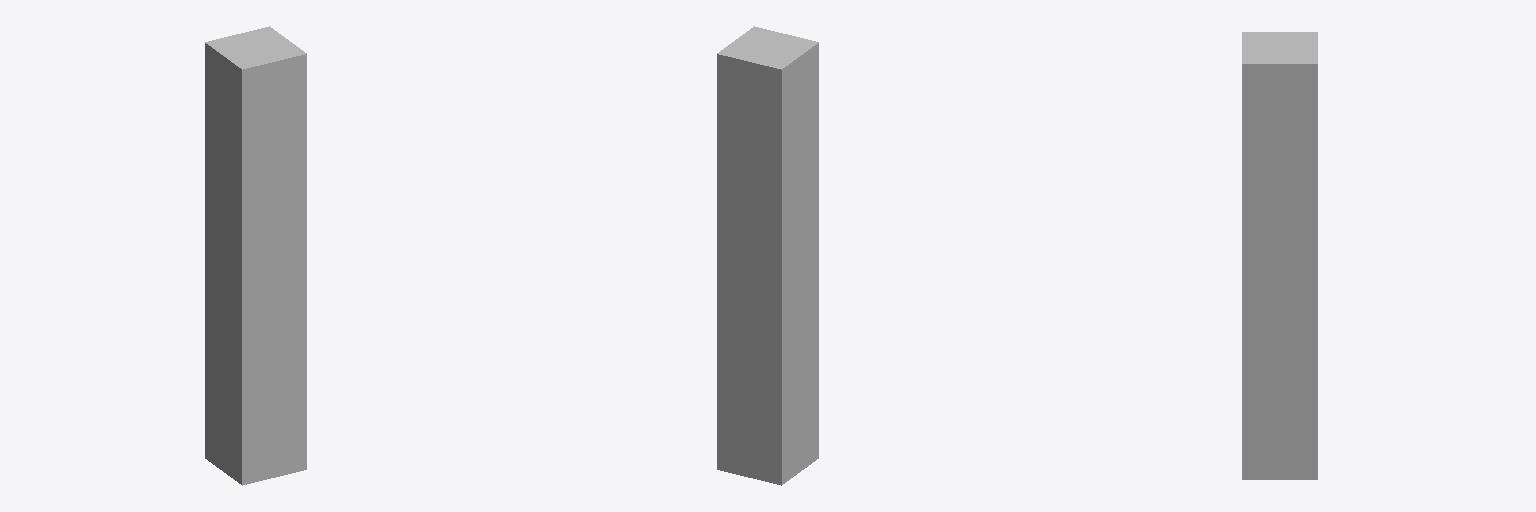
File: wireframebuilding_thin.obj
3 views of the same model, side by side, from view 1: azimuth 30°, elevation 25°; view 2: azimuth 150°, elevation 25°; view 3: azimuth 270°, elevation 25° (orthographic).
Visible parts, largest first — view 1: Cube; view 2: Cube; view 3: Cube.
Boxes of the visible parts, x1=… form: Cube: x1=205, y1=26, x2=306, y2=485; Cube: x1=717, y1=26, x2=818, y2=485; Cube: x1=1242, y1=32, x2=1317, y2=479.
Size of the model in its own units: 1.96 by 12 by 1.96.